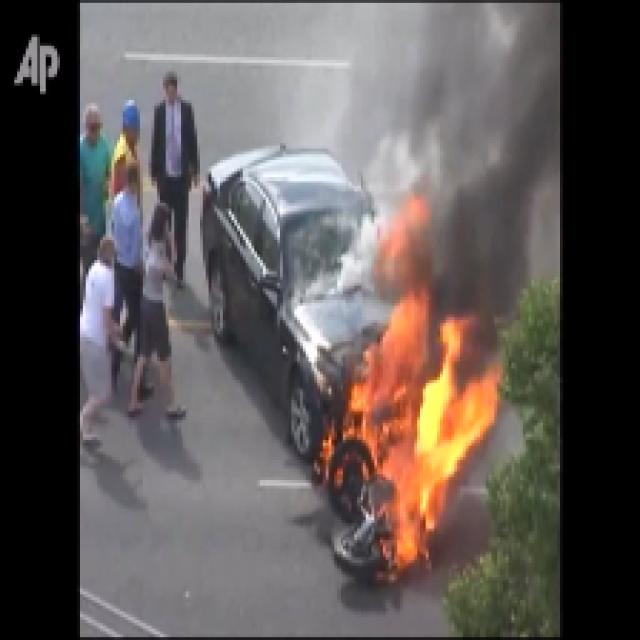fire: (338, 359, 489, 530)
smoke: (408, 21, 559, 340)
